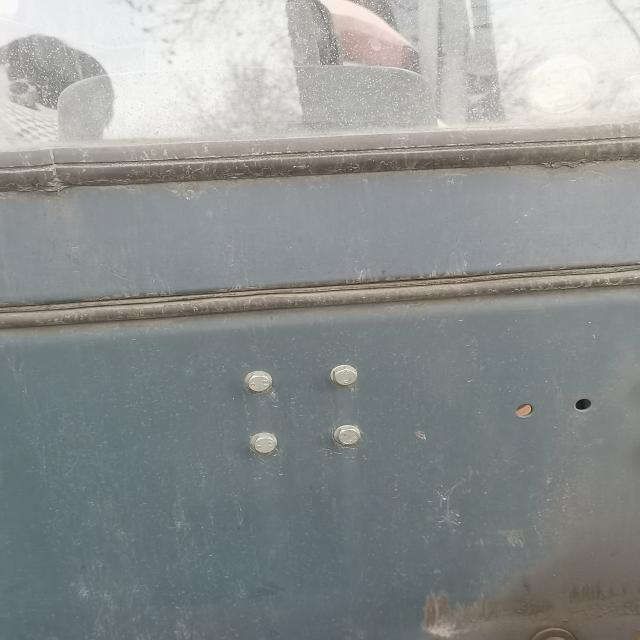bolt head: (331, 365, 359, 388), (245, 372, 272, 393), (335, 426, 361, 447), (253, 435, 278, 455)
